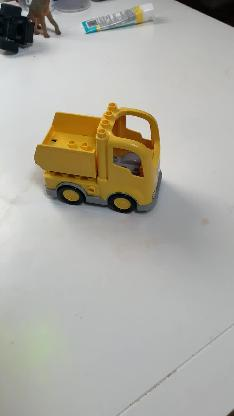yellow dump truck: (32, 100, 164, 214)
